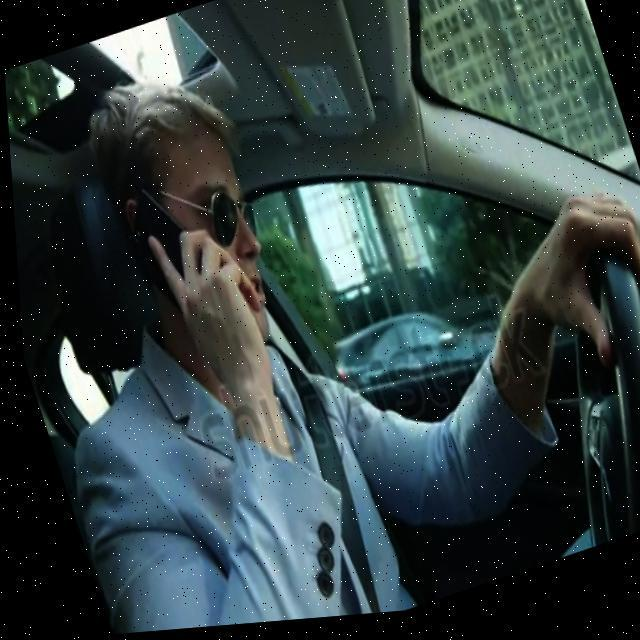PhoneCall: (111, 174, 219, 347)
